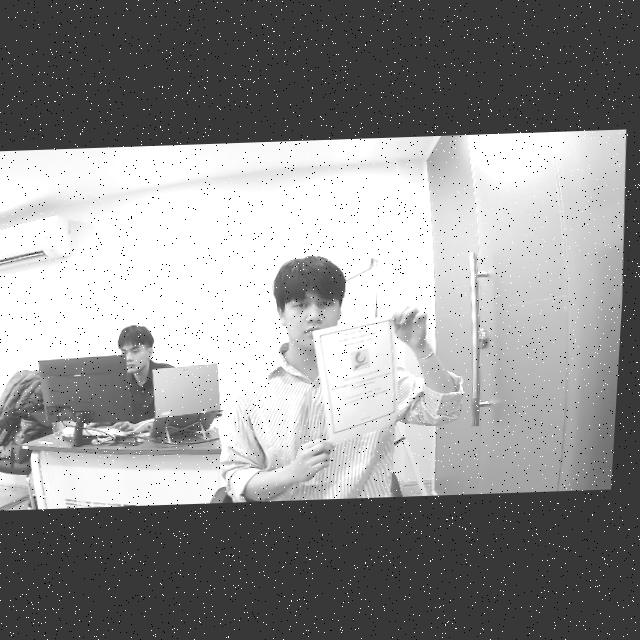document: (312, 314, 397, 446)
face: (269, 288, 341, 355), (119, 324, 150, 377)
